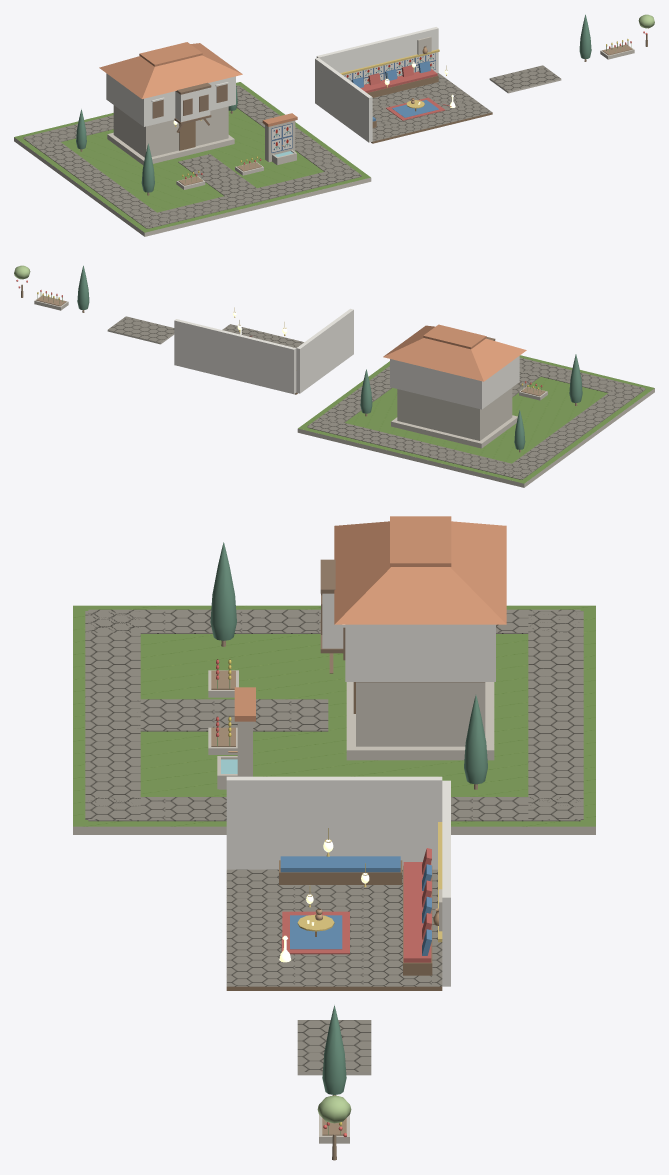
The model's file is kit-41-diorama-turki.glb.
The picture shows the model from 3 angles, top to bottom: view 1: azimuth 30°, elevation 25°; view 2: azimuth 150°, elevation 25°; view 3: azimuth 270°, elevation 25°; orthographic projection. The views are drawn at different scales.
Visible parts, largest first — view 1: TurkiDio_Eksterior, TurkiDio_InteriorLengkap, TurkiDio_JalanHexagon, TurkiDio_TanamanKhas; view 2: TurkiDio_Eksterior, TurkiDio_InteriorLengkap, TurkiDio_JalanHexagon, TurkiDio_TanamanKhas; view 3: TurkiDio_Eksterior, TurkiDio_InteriorLengkap, TurkiDio_JalanHexagon, TurkiDio_TanamanKhas.
Part boxes in pixels (left/top/right/bottom): TurkiDio_Eksterior: left=14, top=42, right=371, bottom=236; TurkiDio_InteriorLengkap: left=315, top=27, right=492, bottom=143; TurkiDio_JalanHexagon: left=489, top=65, right=561, bottom=93; TurkiDio_TanamanKhas: left=579, top=14, right=654, bottom=61; TurkiDio_Eksterior: left=297, top=324, right=654, bottom=487; TurkiDio_InteriorLengkap: left=174, top=307, right=353, bottom=394; TurkiDio_JalanHexagon: left=107, top=316, right=174, bottom=344; TurkiDio_TanamanKhas: left=14, top=265, right=89, bottom=312; TurkiDio_Eksterior: left=73, top=516, right=595, bottom=834; TurkiDio_InteriorLengkap: left=226, top=776, right=450, bottom=990; TurkiDio_JalanHexagon: left=297, top=1020, right=371, bottom=1075; TurkiDio_TanamanKhas: left=317, top=1005, right=351, bottom=1160.
Size of the model in its own units: 43.15 by 6.62 by 17.
20 materials, 3 textured.
